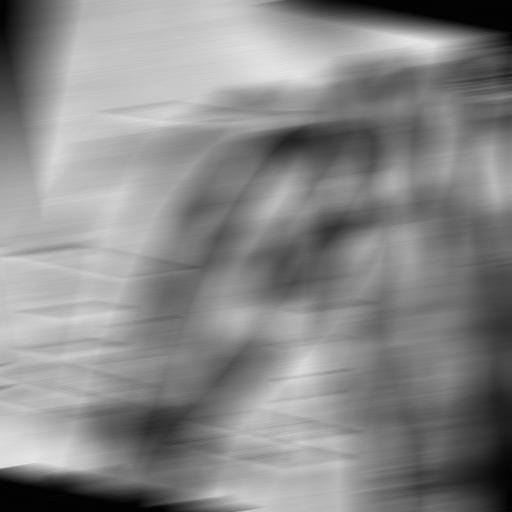house: (0, 0, 438, 490)
